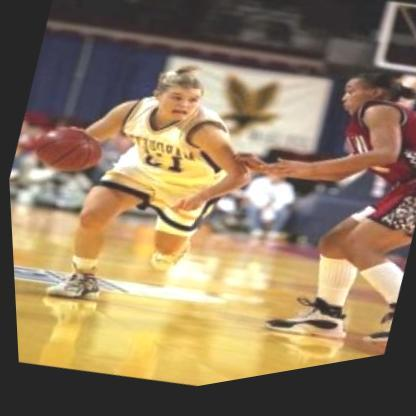basketball: (19, 109, 113, 194)
